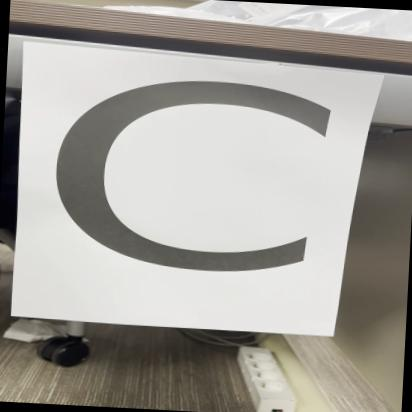seat: (18, 41, 360, 332)
